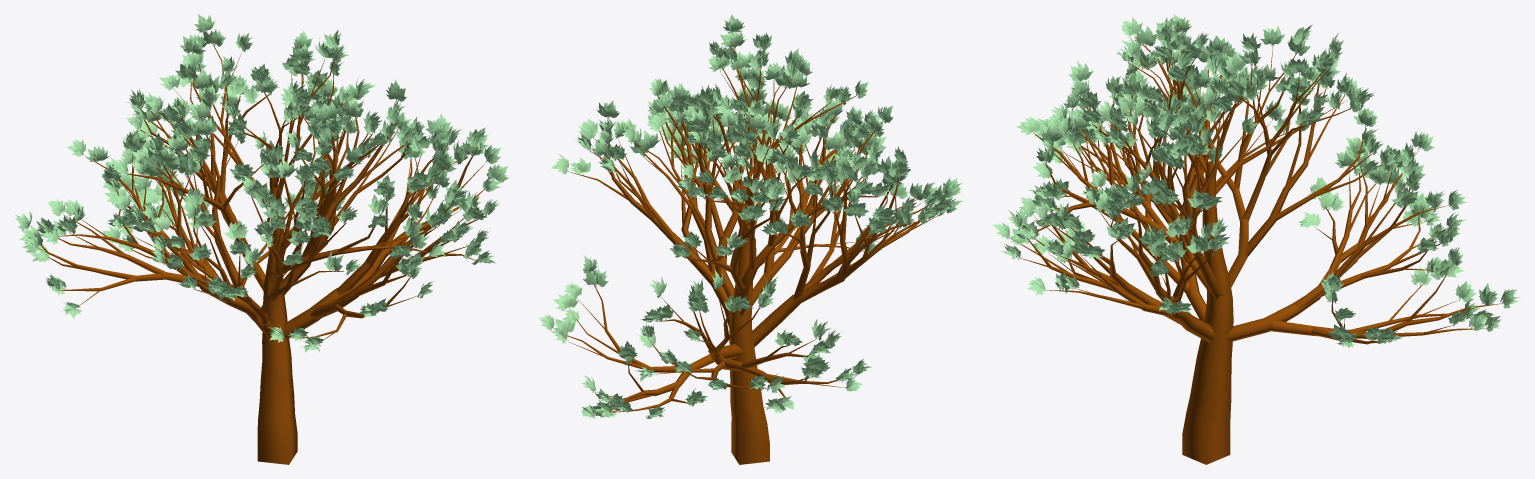
The model's file is FinalTree35.fbx.
3 renders of one model, left to right at view 1: azimuth 30°, elevation 25°; view 2: azimuth 150°, elevation 25°; view 3: azimuth 270°, elevation 25°, orthographic. The views are drawn at different scales.
Visible parts, largest first — view 1: Árbol; view 2: Árbol; view 3: Árbol.
Part boxes in pixels (x1,y1,x2,y2): Árbol: (38,43,485,464); Árbol: (554,33,944,464); Árbol: (1010,34,1500,464).
Size of the model in its own units: 721 by 755 by 805.
